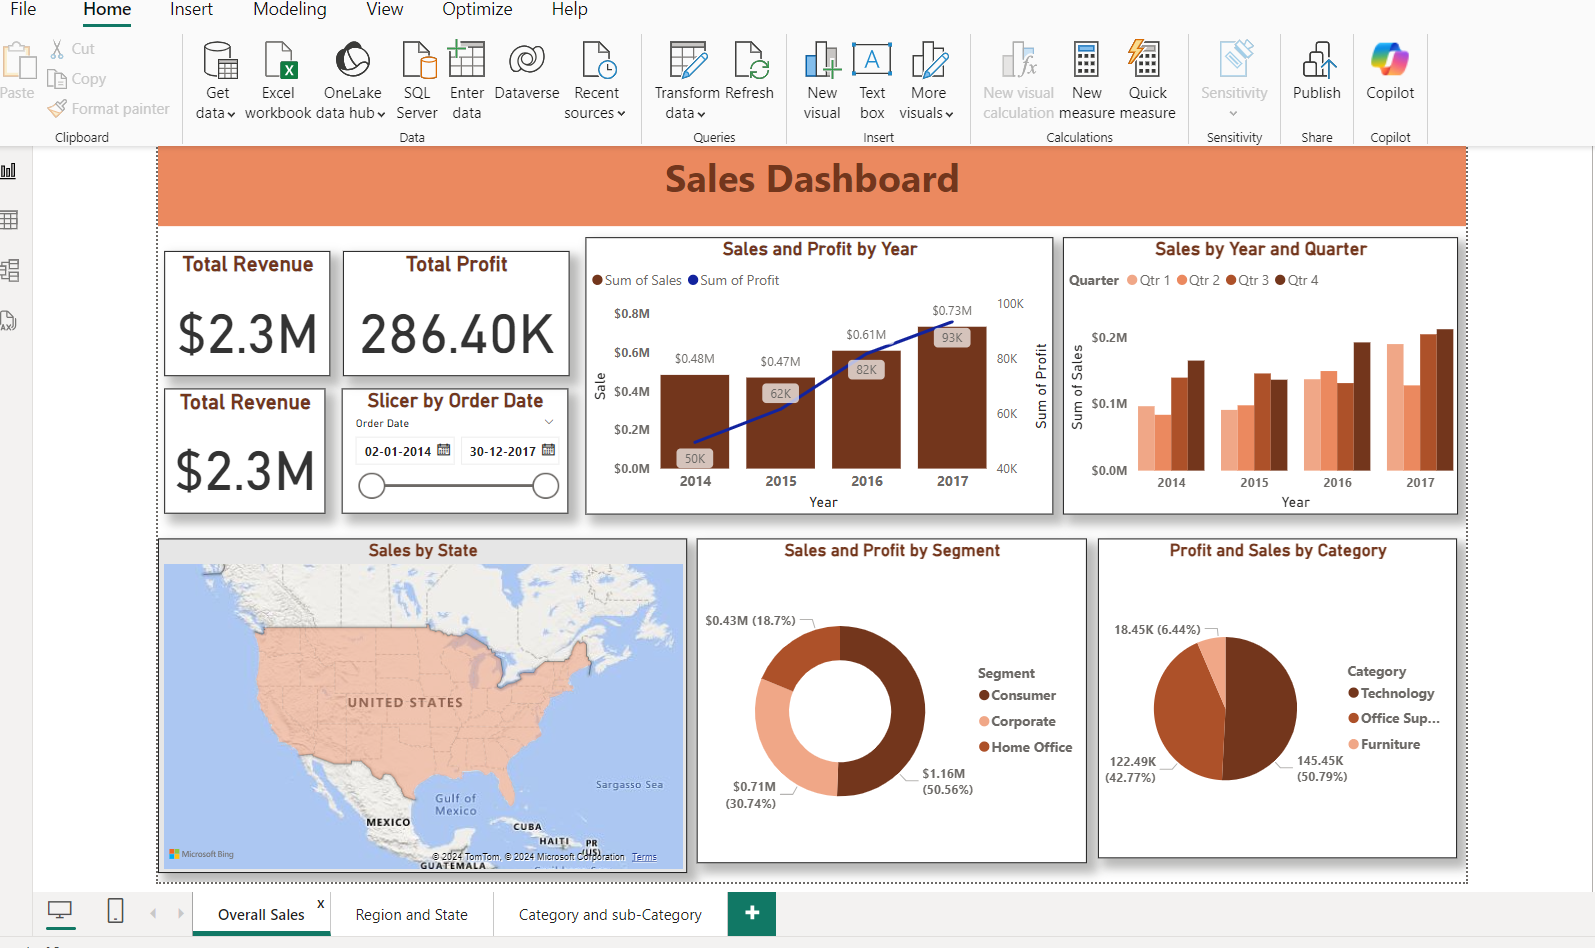

The page's visual inventory and layout, read from the dashboard file:
{"tool":"powerbi","page":{"name":"Overall Sales","canvas":[1280,720],"ordinal":0},"visuals":[{"type":"textbox","box":[0,0,1280.3,78.3],"z":0},{"type":"card","title":"Total Revenue","fields":{"Values":["Sum(Sample - Superstore.Sales)"]},"box":[6.2,102.5,162.5,122.5],"z":1000},{"type":"card","title":"Total Revenue","fields":{"Values":["Sum(Sample - Superstore.Sales)"]},"box":[6.2,237.5,157.5,122.5],"z":2000},{"type":"card","title":"Total Profit","fields":{"Values":["Sum(Sample - Superstore.Profit)"]},"box":[181.2,102.5,221.2,122.5],"z":3000},{"type":"slicer","title":"Slicer by Order Date ","fields":{"Values":["Sample - Superstore.Order Date"]},"box":[180,237.5,221.2,122.5],"z":4000},{"type":"lineStackedColumnComboChart","title":" Sales and  Profit by Year","fields":{"Category":["Sample - Superstore.Order Date.Variation.Date Hierarchy.Year","Sample - Superstore.Order Date.Variation.Date Hierarchy.Quarter","Sample - Superstore.Order Date.Variation.Date Hierarchy.Month","Sample - Superstore.Order Date.Variation.Date Hierarchy.Day"],"Y":["Sum(Sample - Superstore.Sales)"],"Y2":["Sum(Sample - Superstore.Profit)"]},"box":[418.8,88.8,457.5,271.2],"z":5000},{"type":"clusteredColumnChart","title":" Sales by Year and Quarter","fields":{"Category":["Sample - Superstore.Year"],"Y":["Sum(Sample - Superstore.Sales)"],"Series":["Sample - Superstore.Quarter"]},"box":[885,88.8,386.2,271.2],"z":6000},{"type":"filledMap","title":"Sales by State","fields":{"Category":["Sample - Superstore.State"]},"box":[0,383.8,517.5,327.5],"z":7000},{"type":"donutChart","title":" Sales and Profit by Segment","fields":{"Category":["Sample - Superstore.Segment"],"Y":["Sum(Sample - Superstore.Sales)"]},"box":[527.5,383.8,381.2,317.5],"z":8000},{"type":"pieChart","title":"Profit and Sales by Category","fields":{"Category":["Sample - Superstore.Category"],"Y":["Sum(Sample - Superstore.Profit)"]},"box":[920,383.8,351.2,312.5],"z":9000}]}

Visuals, with their boxes on the page's 1280x720 design canvas (x1, y1, x2, y2). These are canvas units, not pixel positions in the 1595x948 screenshot, which may show the page scaled, cropped or inside an application window:
textbox: bbox(0, 0, 1280, 78)
"Total Revenue" card: bbox(6, 102, 169, 225)
"Total Revenue" card: bbox(6, 238, 164, 360)
"Total Profit" card: bbox(181, 102, 402, 225)
"Slicer by Order Date " slicer: bbox(180, 238, 401, 360)
" Sales and  Profit by Year" lineStackedColumnComboChart: bbox(419, 89, 876, 360)
" Sales by Year and Quarter" clusteredColumnChart: bbox(885, 89, 1271, 360)
"Sales by State" filledMap: bbox(0, 384, 518, 711)
" Sales and Profit by Segment" donutChart: bbox(528, 384, 909, 701)
"Profit and Sales by Category" pieChart: bbox(920, 384, 1271, 696)
